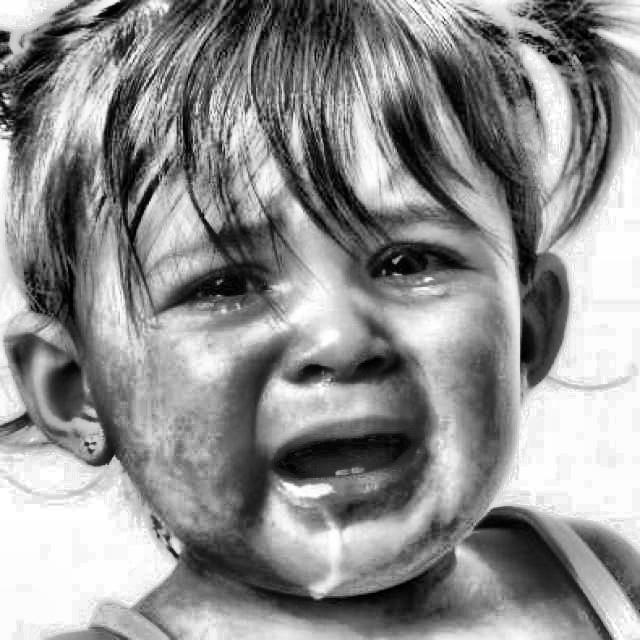sad: (93, 50, 519, 602)
